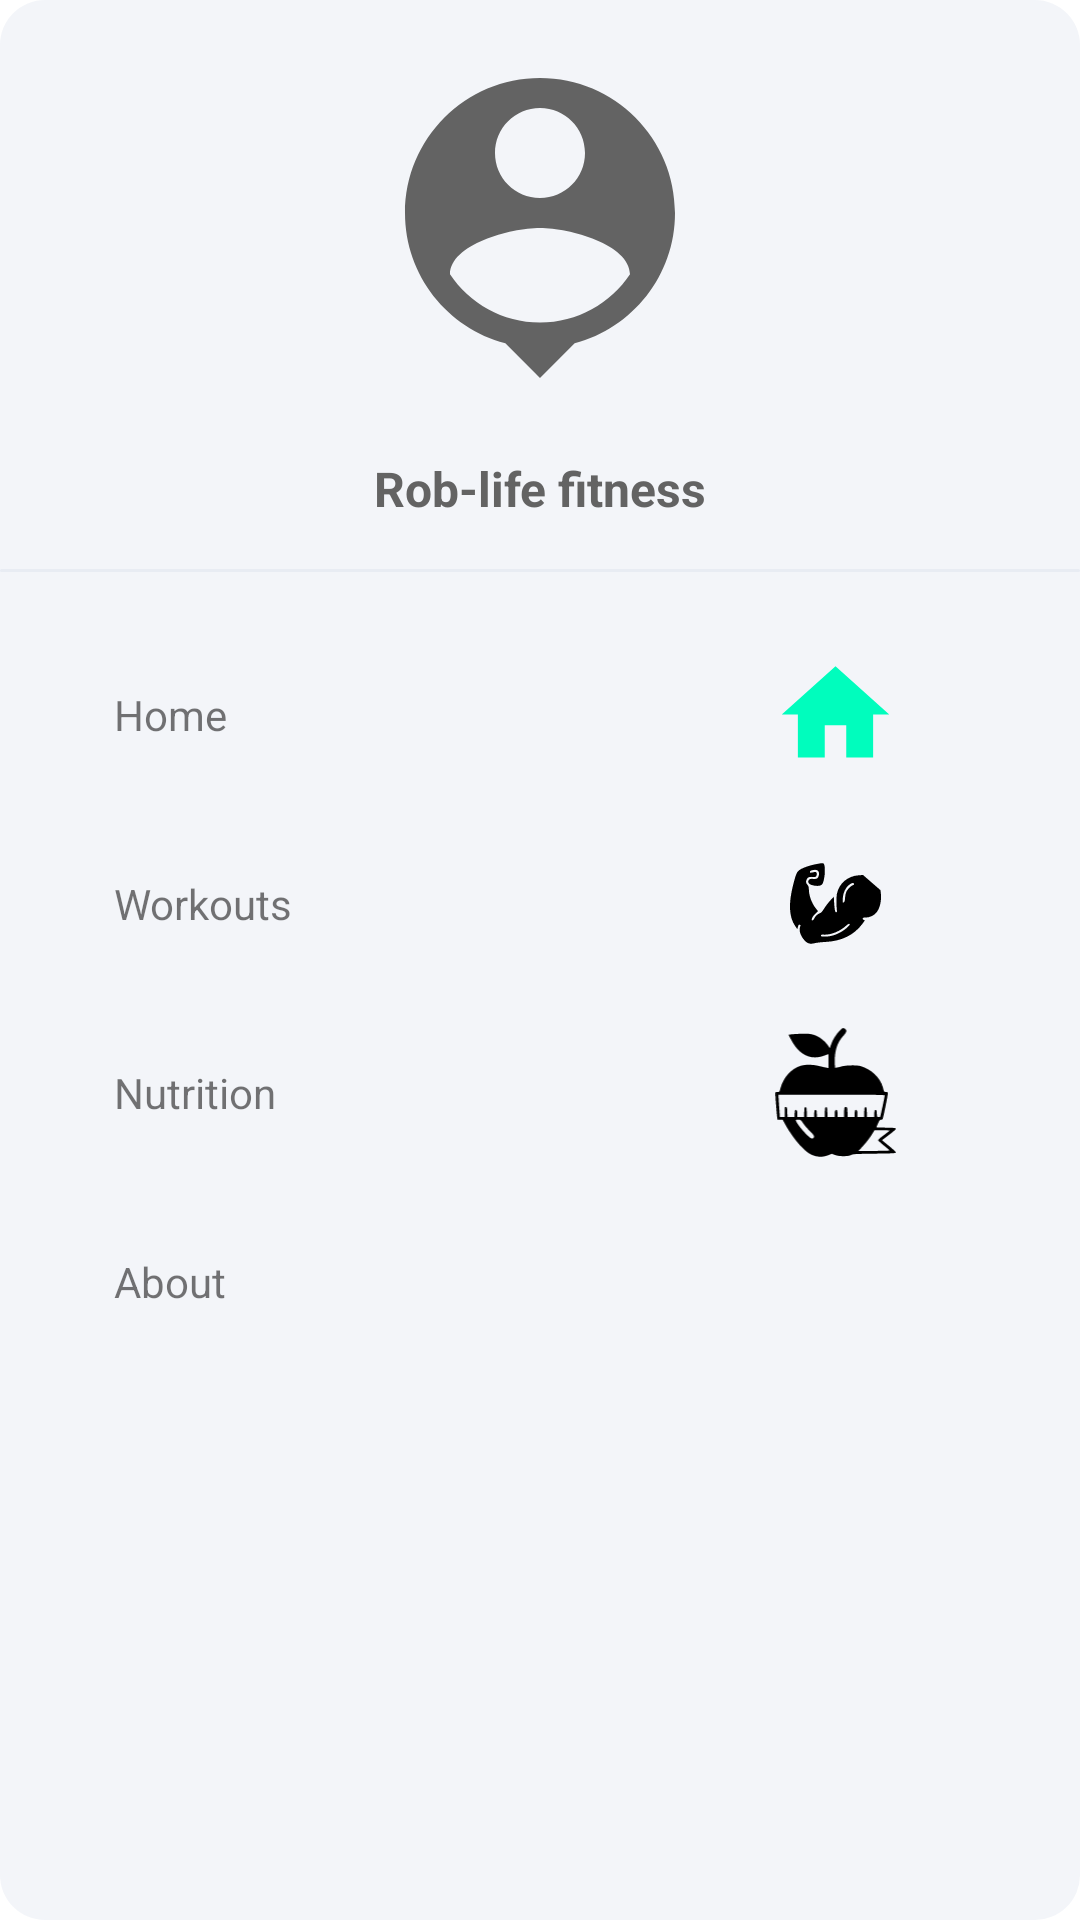

Icons on this 1080 × 1920 Android screen, each with the point to tap as point (x, y):
person pin: point (540, 228)
